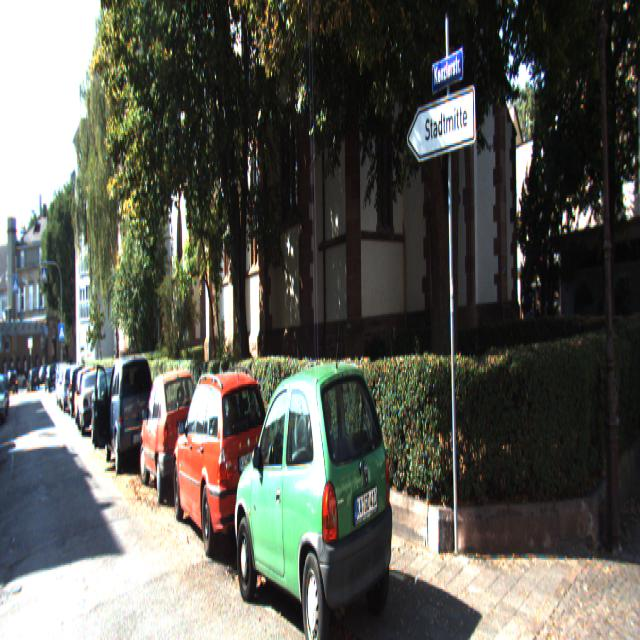Car: (227, 348, 405, 638), (166, 358, 279, 570), (134, 362, 205, 515), (102, 352, 155, 479), (73, 362, 104, 433)
